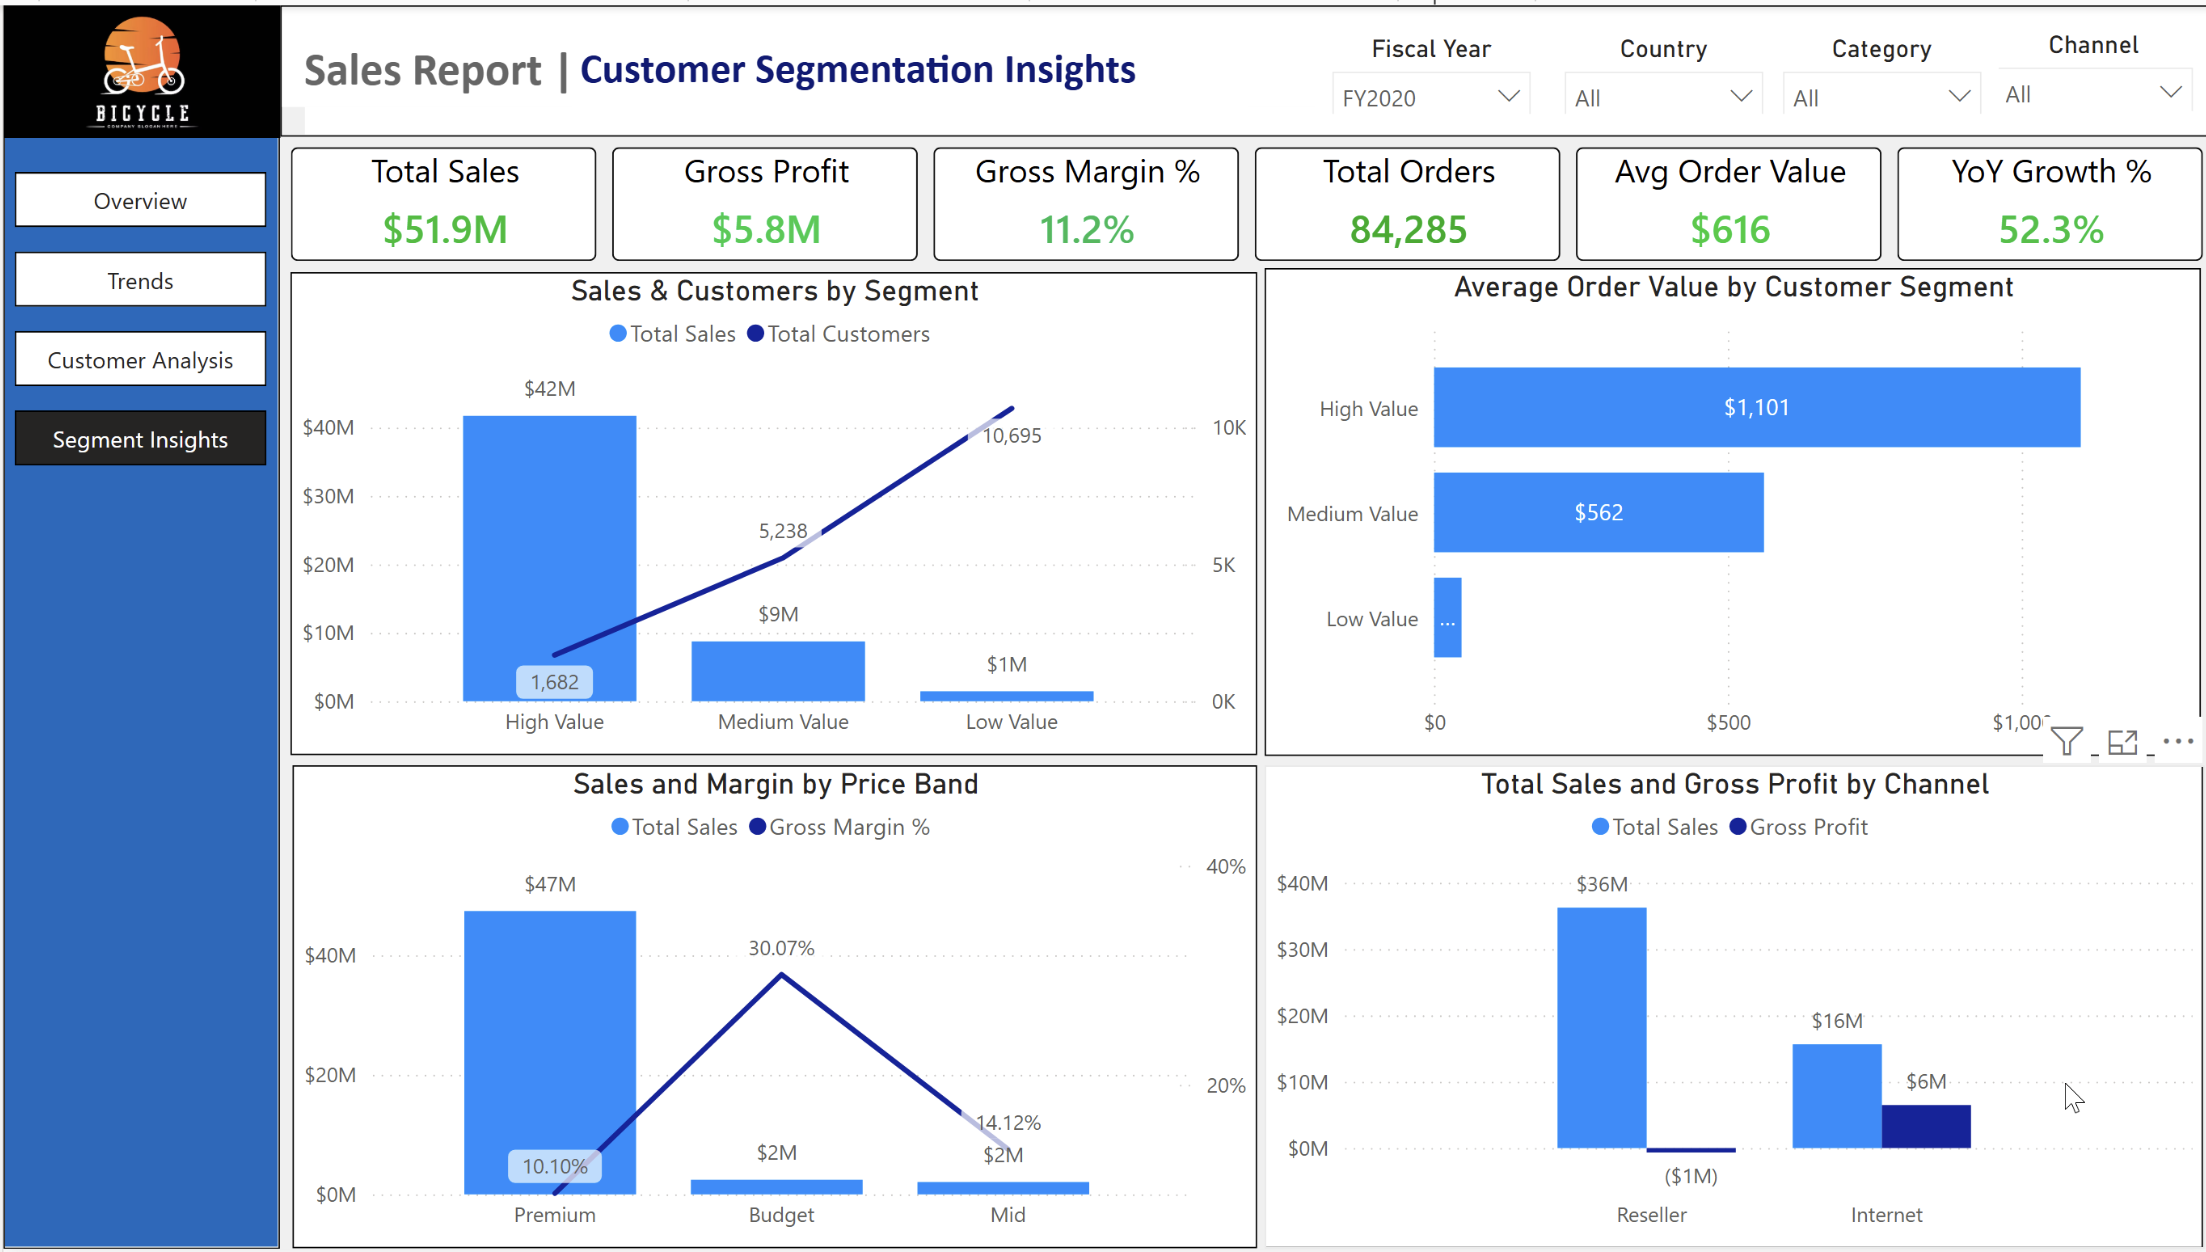

This screenshot's page, from the dashboard's own definition file:
{"tool":"powerbi","page":{"name":"Segment Insights","canvas":[1280,720],"ordinal":3},"visuals":[{"type":"shape","box":[0,0,160,720],"z":0},{"type":"shape","title":"Sales Report | ","box":[159.8,0,1120.2,76.2],"z":1000},{"type":"textbox","box":[328.4,16.2,392.1,46.2],"z":2000},{"type":"slicer","title":"Fiscal Year","fields":{"Values":["DimDate.Fiscal Year","DimDate.Month"]},"box":[759.3,16.2,134.9,46.2],"z":4000},{"type":"cardVisual","fields":{"Data":["Measures_.Total Sales","Measures_.Gross Profit","Measures_.Gross Margin %","Measures_.Total Orders","Measures_.Avg Order Value","Measures_.YoY Growth %"]},"box":[159.8,76.2,1120.2,78.7],"z":5000},{"type":"slicer","title":"Country","fields":{"Values":["DimSalesTerritory.Country"]},"box":[894.1,16.2,134.9,46.2],"z":6000},{"type":"slicer","title":"Channel","fields":{"Values":["DimSalesOrder.Channel"]},"box":[1142.9,14.3,134.3,47.1],"z":7000},{"type":"slicer","title":"Category","fields":{"Values":["DimProduct.Category"]},"box":[1020.3,16.2,134.9,46.2],"z":8000},{"type":"lineStackedColumnComboChart","title":"Sales & Customers by Segment","fields":{"Category":["DimCustomer.Customer Segment"],"Y":["Measures_.Total Sales"],"Y2":["Measures_.Total Customers"]},"box":[166.1,154.8,559.5,279.7],"z":9000},{"type":"clusteredBarChart","title":"Average Order Value by Customer Segment","fields":{"Category":["DimCustomer.Customer Segment"],"Y":["Measures_.Avg Order Value"]},"box":[730.5,152.4,542,282.2],"z":10000},{"type":"lineClusteredColumnComboChart","title":"Sales and Margin by Price Band","fields":{"Category":["DimProduct.Price Band"],"Y":["Measures_.Total Sales"],"Y2":["Measures_.Gross Margin %"]},"box":[167.3,439.6,558.2,279.7],"z":11000},{"type":"clusteredColumnChart","fields":{"Category":["DimSalesOrder.Channel"],"Y":["Measures_.Total Sales","Measures_.Gross Profit"]},"box":[730.5,439.6,543.2,279.7],"z":12000},{"type":"pageNavigator","title":"Select View","box":[2.5,91.2,154.8,184.8],"z":13000},{"type":"image","box":[0,0,160.5,76.7],"z":13001}]}

Visuals, with their boxes on the page's 1280x720 design canvas (x1, y1, x2, y2). These are canvas units, not pixel positions in the 2206x1252 screenshot, which may show the page scaled, cropped or inside an application window:
shape: BBox(0, 0, 160, 720)
"Sales Report | " shape: BBox(160, 0, 1280, 76)
textbox: BBox(328, 16, 720, 62)
"Fiscal Year" slicer: BBox(759, 16, 894, 62)
cardVisual - Measures_.Total Sales x Measures_.Gross Profit: BBox(160, 76, 1280, 155)
"Country" slicer: BBox(894, 16, 1029, 62)
"Channel" slicer: BBox(1143, 14, 1277, 61)
"Category" slicer: BBox(1020, 16, 1155, 62)
"Sales & Customers by Segment" lineStackedColumnComboChart: BBox(166, 155, 726, 434)
"Average Order Value by Customer Segment" clusteredBarChart: BBox(730, 152, 1272, 435)
"Sales and Margin by Price Band" lineClusteredColumnComboChart: BBox(167, 440, 726, 719)
clusteredColumnChart - DimSalesOrder.Channel x Measures_.Total Sales: BBox(730, 440, 1274, 719)
"Select View" pageNavigator: BBox(2, 91, 157, 276)
image: BBox(0, 0, 160, 77)
